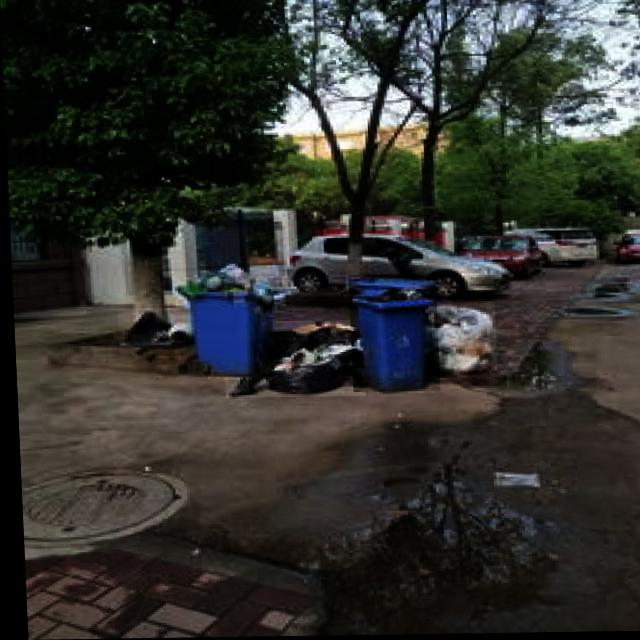garbage: (220, 321, 362, 399), (419, 305, 494, 373), (115, 308, 189, 355)
overflow: (171, 261, 271, 378), (346, 275, 437, 393)
